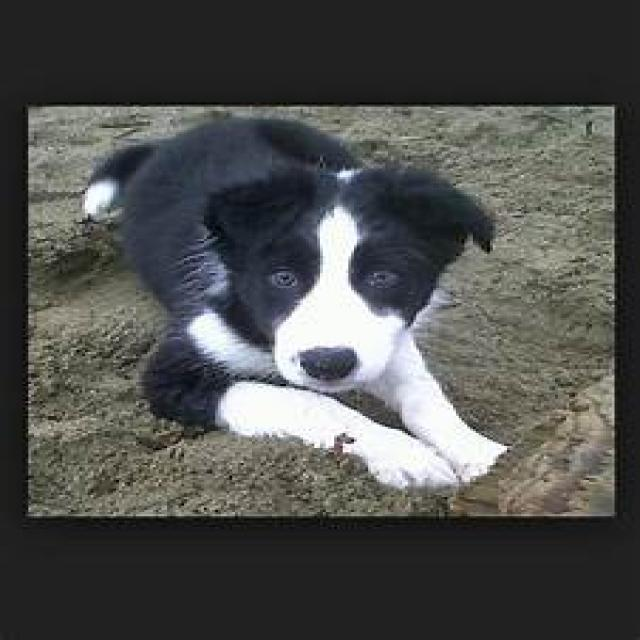dog: (85, 119, 507, 489)
